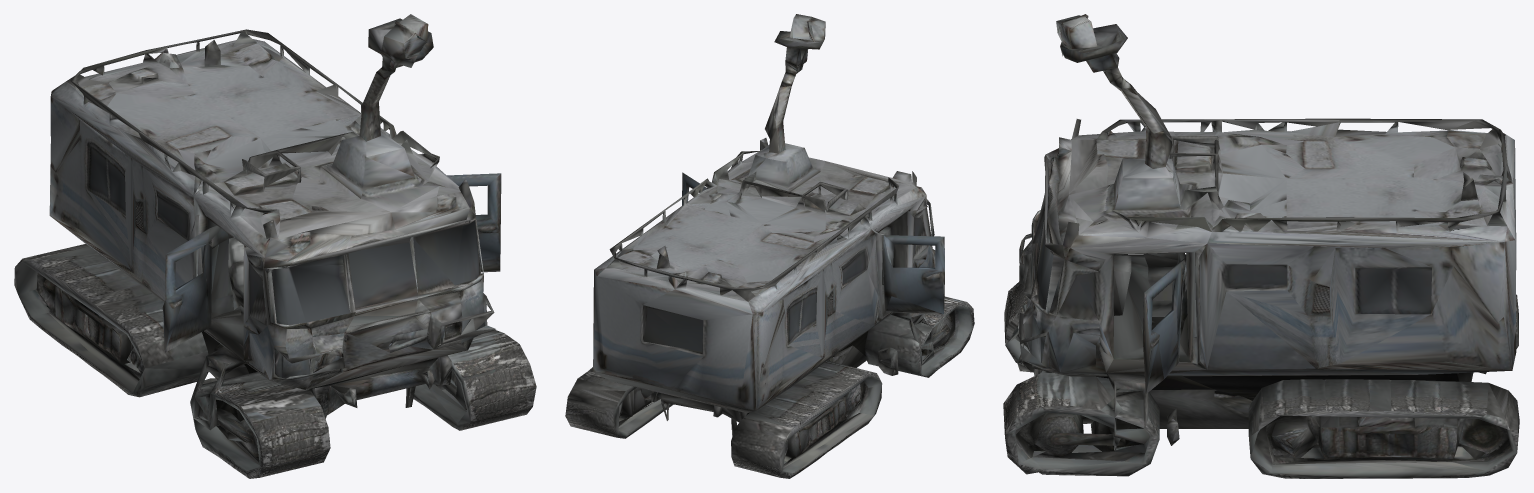
Rendered from survey_crawler.glb.
3 views of the same model, side by side, from view 1: azimuth 30°, elevation 25°; view 2: azimuth 150°, elevation 25°; view 3: azimuth 270°, elevation 25° (orthographic). The views are drawn at different scales.
Bounding box in the file's own units: 0.7704 × 0.8856 × 0.9962.
1 material, 1 textured.
